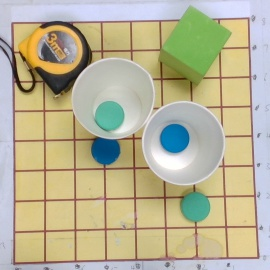blue: (92, 137, 121, 165)
cup_blue: (144, 101, 225, 187)
cup_green: (70, 57, 156, 140)
green: (180, 191, 212, 222)
